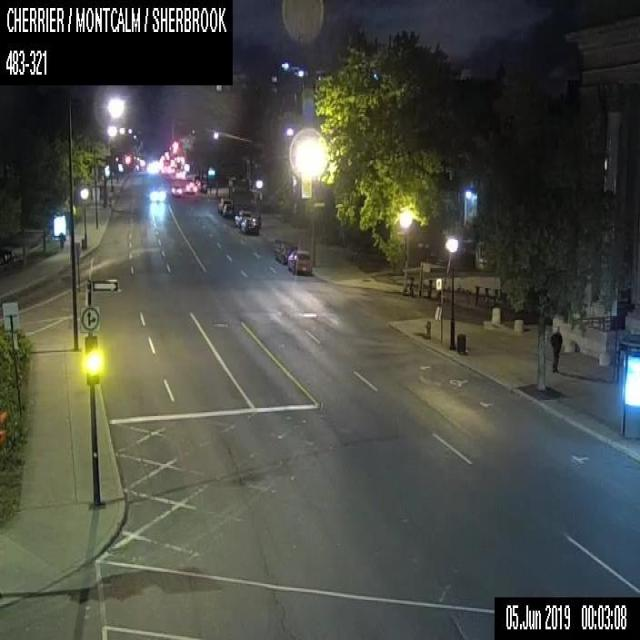pedestrian: (549, 325, 562, 372)
vehicle: (287, 249, 312, 276), (275, 242, 298, 264), (233, 209, 250, 227), (240, 217, 258, 233), (150, 185, 166, 201), (217, 196, 232, 212), (221, 203, 234, 216), (184, 180, 197, 193), (0, 248, 10, 264), (170, 185, 182, 196)
